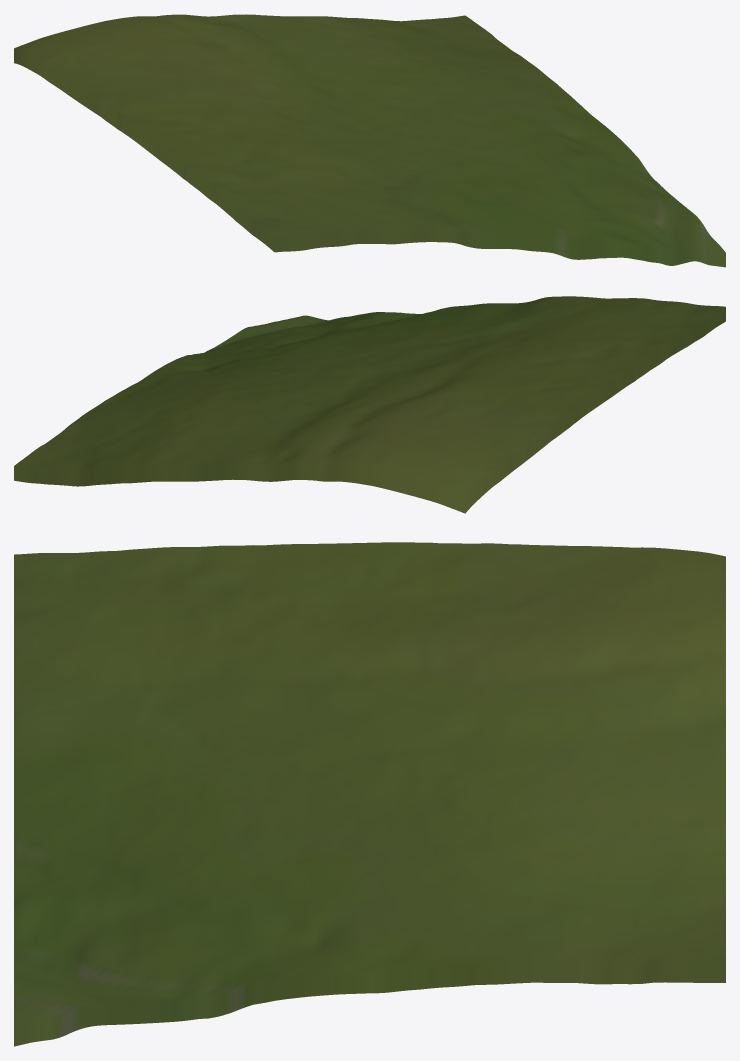
Rendered from terrain_3_-6.glb.
3 renders of one model, top to bottom at view 1: azimuth 30°, elevation 25°; view 2: azimuth 150°, elevation 25°; view 3: azimuth 270°, elevation 25°, orthographic. The views are drawn at different scales.
Parts seen in each view (by area): view 1: terrain_3_-6; view 2: terrain_3_-6; view 3: terrain_3_-6.
Part boxes in pixels (box(x1,y1,x2,y2)): terrain_3_-6: box(14, 14, 725, 267); terrain_3_-6: box(14, 296, 725, 513); terrain_3_-6: box(14, 542, 725, 1046).
Size of the model in its own units: 256 by 80.71 by 256.
